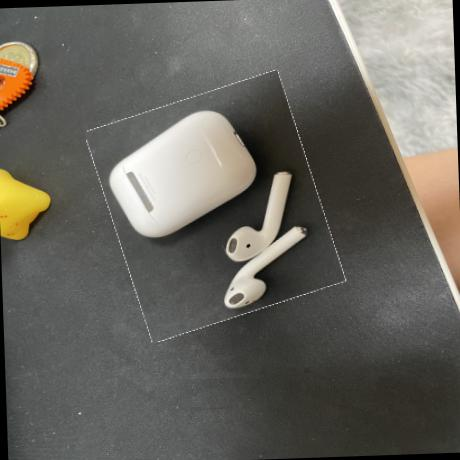airpod2: (95, 80, 334, 333)
